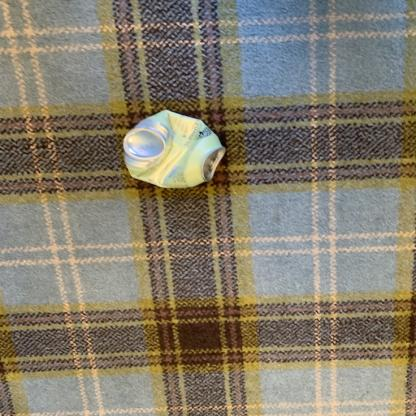trash: (115, 110, 229, 193)
